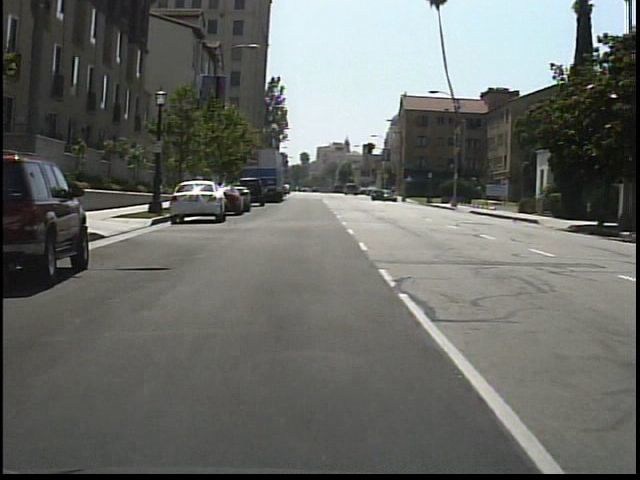person: (147, 167, 166, 213)
